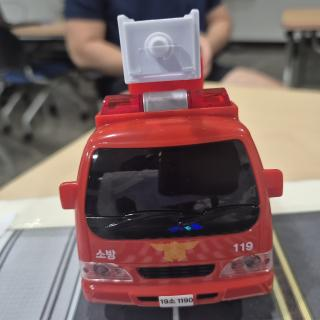Fire_truck: (59, 9, 283, 308)
